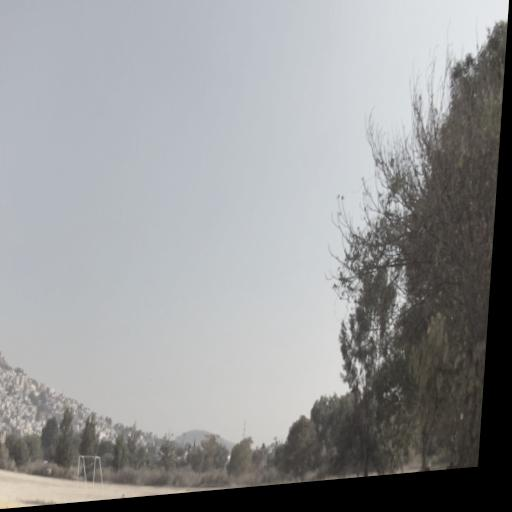drones: (149, 378, 152, 382)
